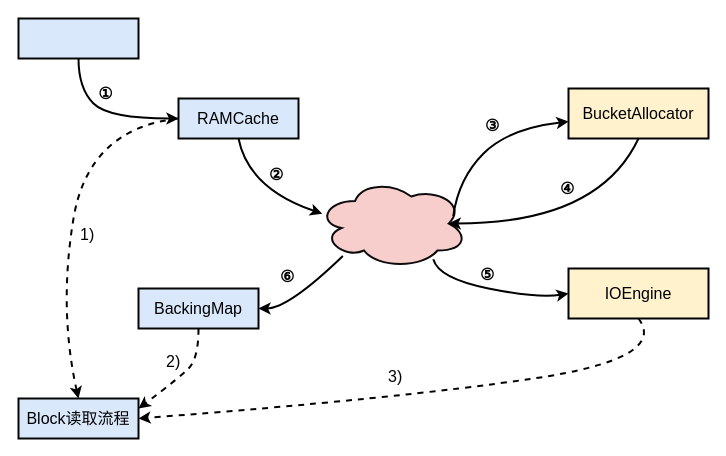
The diagram is 726 pixels wide and 456 high, and some of its shapes have lost their labels. The shapes that lost their labels are listed below. From the top down, each one's centre as x and y in pixels, then its label:
pixel 78 38: Block写入流程
pixel 392 223: WriteThread
